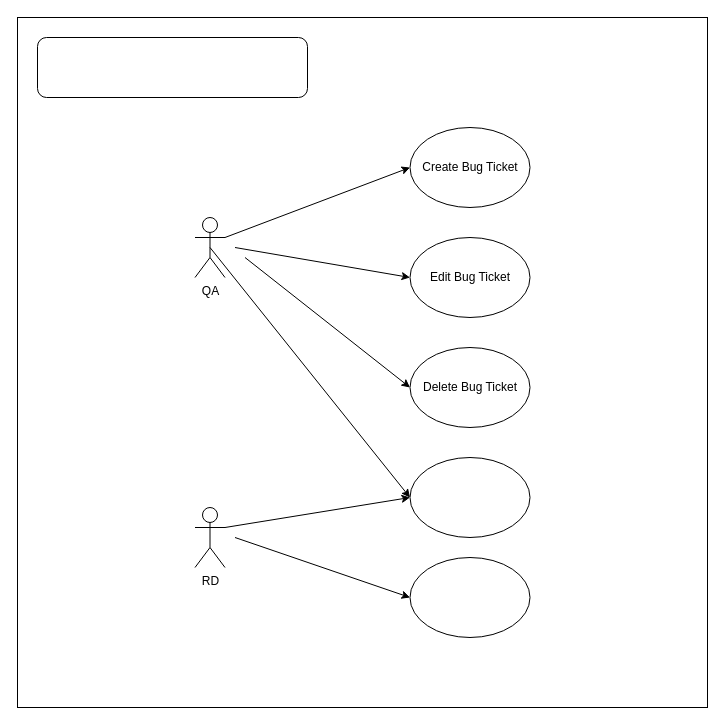
The diagram is 725 pixels wide and 725 high, and some of its shapes have lost their labels. The shapes that lost their labels are listed below. From the top down, each one's centre as x and y in pixels, then its label:
At point 172,67: "Ticket Tracking System - Use Case Diagram Phase I".
At point 469,497: "Log in".
At point 469,597: "Resolve Bug Ticket".
